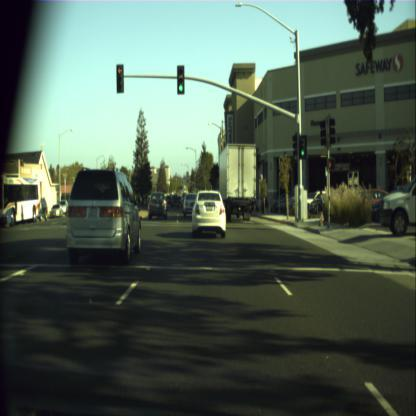Green: (176, 64, 184, 93), (300, 139, 304, 156)
RedLeft: (116, 64, 123, 93)
